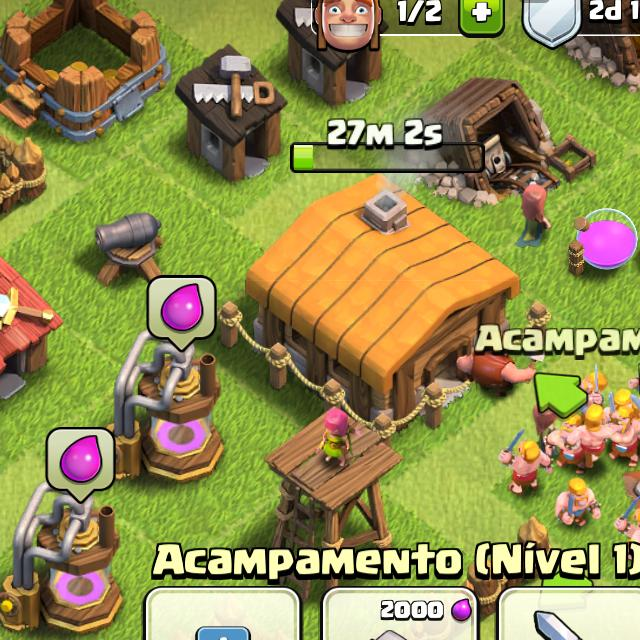Elixir: (148, 274, 218, 353), (46, 426, 115, 506)
